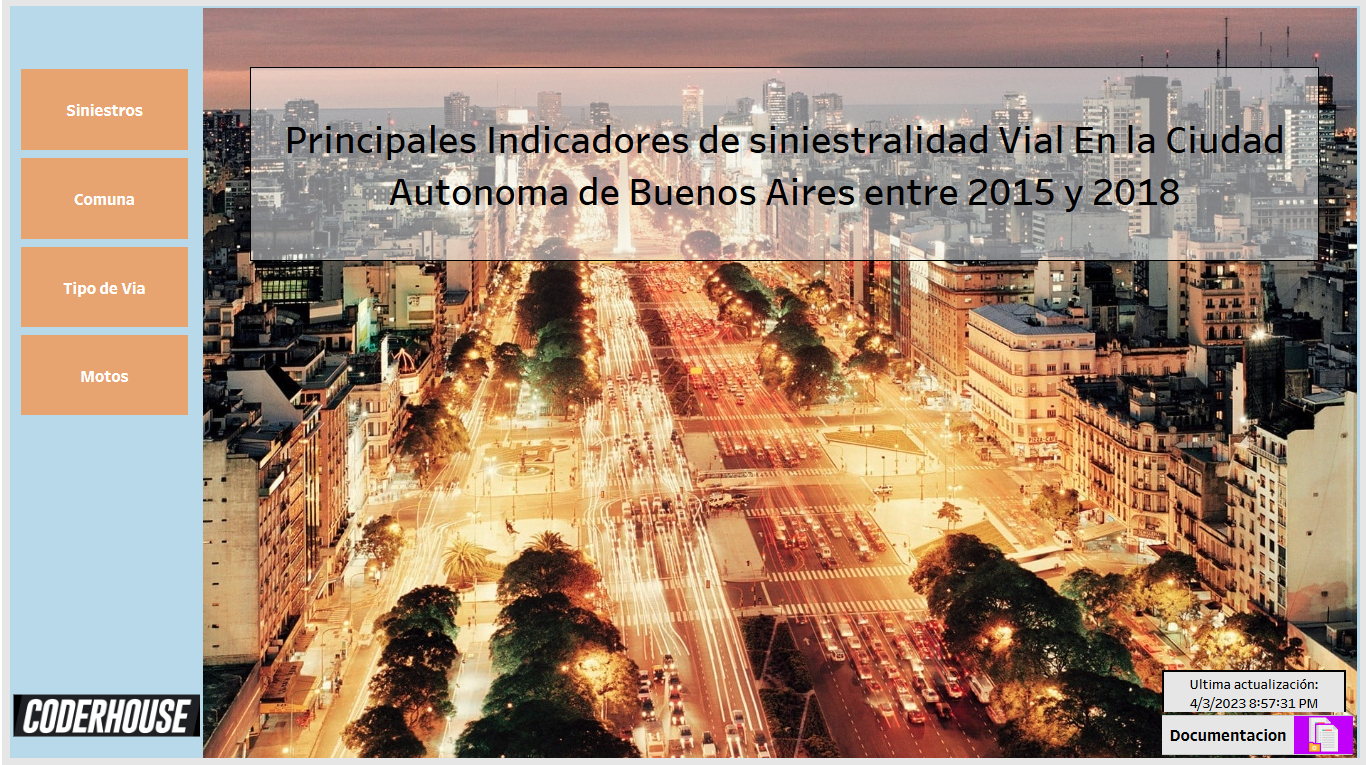

This screenshot's page, from the dashboard's own definition file:
{"tool":"powerbi","page":{"name":"Inicio","canvas":[1280,720],"ordinal":0},"visuals":[{"type":"shape","box":[0,0,208.9,720],"z":0},{"type":"image","box":[0,0,208.9,133.3],"z":1000},{"type":"image","box":[0,652.2,208.9,67.8],"z":2000},{"type":"pageNavigator","box":[22,224,156,274],"z":3000},{"type":"shape","box":[964.4,412.2,313.3,307.8],"z":3000,"group":"g1"},{"type":"textbox","box":[1021.1,450,198.9,245.6],"z":4000,"group":"g1"},{"type":"card","title":"Ultima Actualización de Datos:","fields":{"Values":["Medidas.Última actualización"]},"box":[209,670,240,50],"z":4000},{"type":"shape","box":[228.9,38.9,991.1,121.1],"z":5000},{"type":"textbox","box":[228.9,38.9,965.6,121.1],"z":6000},{"type":"group","id":"g1","title":"Grupo 1","box":[964.4,412.2,313.3,307.8],"z":7000}]}

Visuals, with their boxes in screenshot pixels (x1, y1, x2, y2), scaled from the page's 1280x720 canvas onto the 1366x765 screenshot:
shape: x1=0 y1=0 x2=223 y2=764
image: x1=0 y1=0 x2=223 y2=142
image: x1=0 y1=693 x2=223 y2=764
pageNavigator: x1=23 y1=238 x2=190 y2=529
shape: x1=1029 y1=438 x2=1364 y2=764
textbox: x1=1090 y1=478 x2=1302 y2=739
"Ultima Actualización de Datos:" card: x1=223 y1=712 x2=479 y2=764
shape: x1=244 y1=41 x2=1302 y2=170
textbox: x1=244 y1=41 x2=1275 y2=170
"Grupo 1" group: x1=1029 y1=438 x2=1364 y2=764
